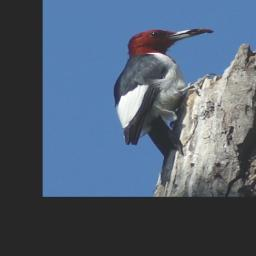Woodpecker: (112, 27, 213, 187)
